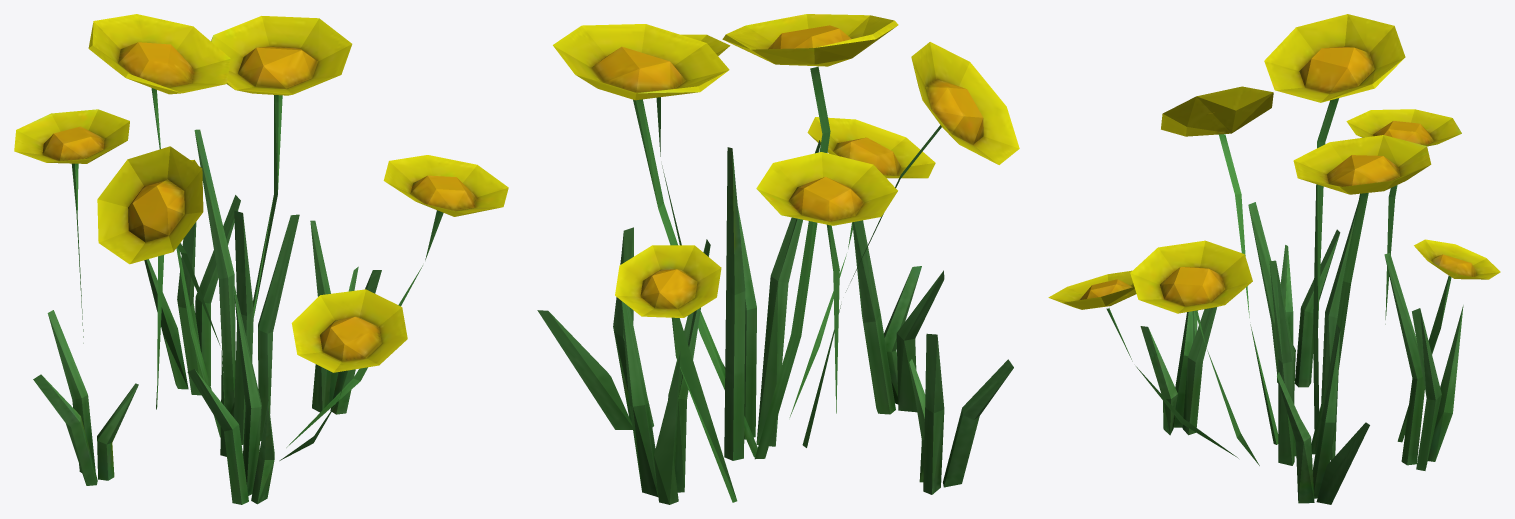
File: desertMarigold.glb
3 views of the same model, side by side, from view 1: azimuth 30°, elevation 25°; view 2: azimuth 150°, elevation 25°; view 3: azimuth 270°, elevation 25° (orthographic). The views are drawn at different scales.
Visible parts, largest first — view 1: DesertMarigold_mesh; view 2: DesertMarigold_mesh; view 3: DesertMarigold_mesh.
Part boxes in pixels (x1,y1,x2,y2): DesertMarigold_mesh: (14,14,508,504); DesertMarigold_mesh: (537,14,1019,504); DesertMarigold_mesh: (1048,14,1500,504).
Bounding box in the file's own units: 6.62 × 6.16 × 6.55.
Materials: 1 (1 with a texture image).
